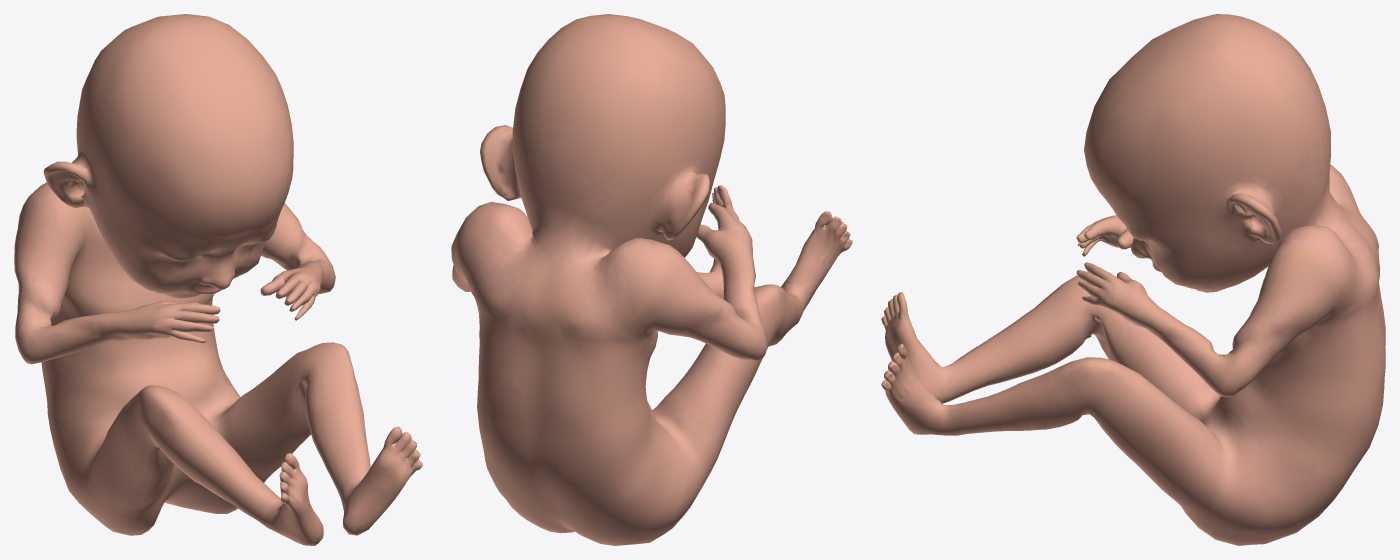
The picture shows the model from 3 angles, left to right: view 1: azimuth 30°, elevation 25°; view 2: azimuth 150°, elevation 25°; view 3: azimuth 270°, elevation 25°; orthographic projection.
Visible parts, largest first — view 1: Baby; view 2: Baby; view 3: Baby.
Boxes of the visible parts, left/top/right/bottom form: Baby: left=14, top=14, right=422, bottom=545; Baby: left=451, top=14, right=852, bottom=545; Baby: left=881, top=14, right=1385, bottom=545.
Bounding box in the file's own units: 0.1755 × 0.2717 × 0.249.
Materials: 1 (1 with a texture image).
